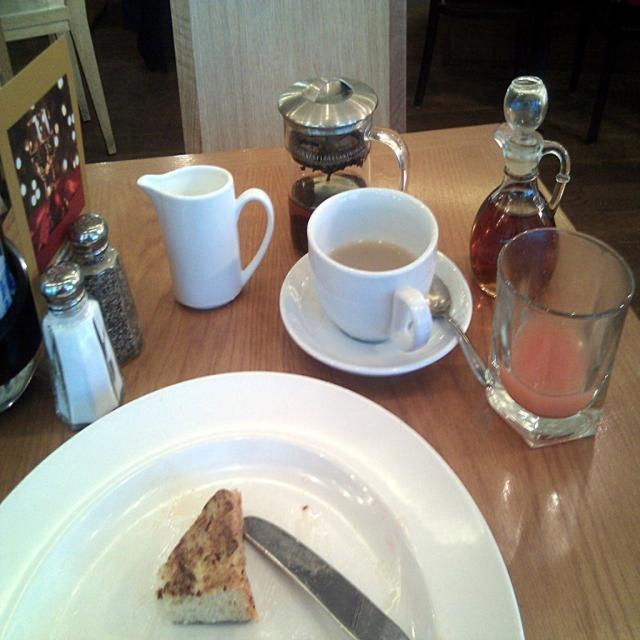Coffee: (328, 237, 416, 273)
Tea: (330, 236, 413, 272)
